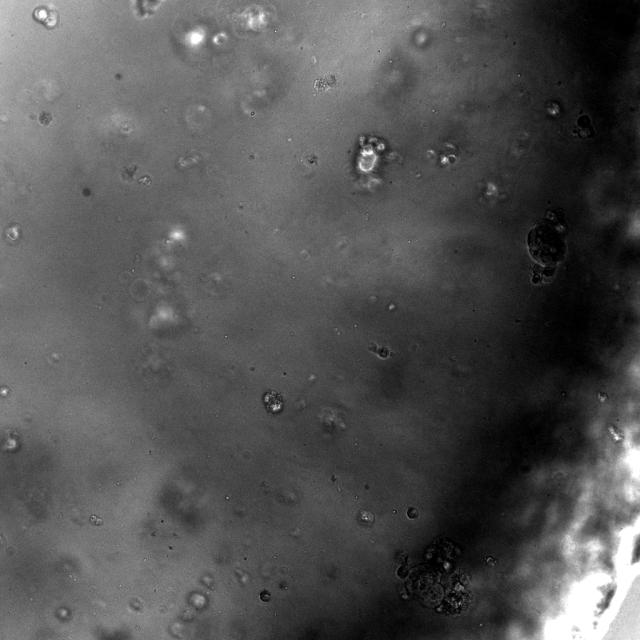organoid: (394, 537, 472, 615), (528, 209, 567, 284), (33, 5, 59, 29), (262, 390, 284, 414), (573, 115, 594, 138), (484, 555, 498, 567), (259, 589, 271, 603), (407, 506, 419, 519), (377, 346, 389, 359)
